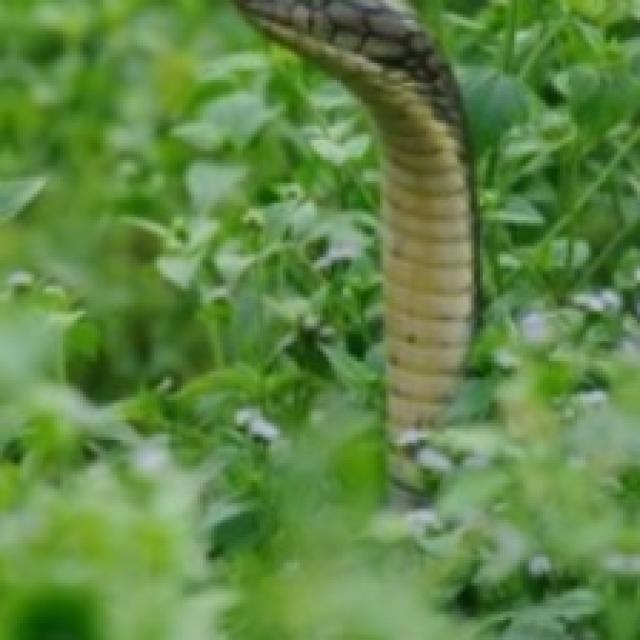king cobra: (237, 0, 474, 437)
